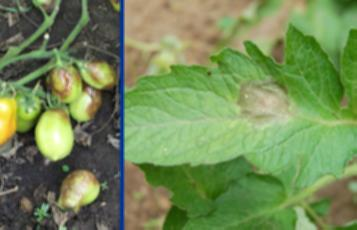Tomato leaf late blight: (126, 29, 357, 194)
